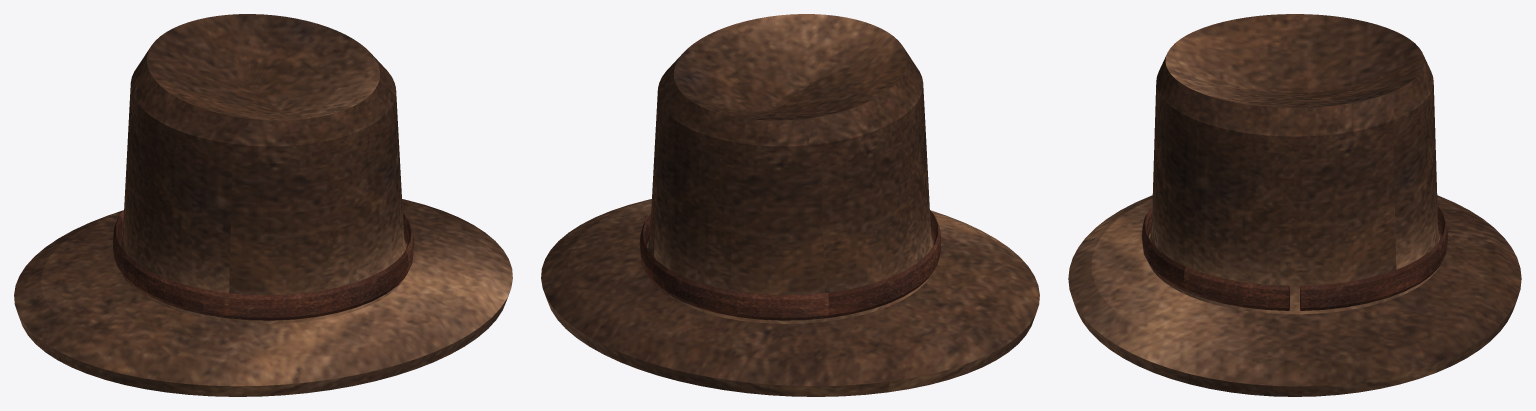
3 views of the same model, side by side, from view 1: azimuth 30°, elevation 25°; view 2: azimuth 150°, elevation 25°; view 3: azimuth 270°, elevation 25° (orthographic).
Visible parts, largest first — view 1: hollow_crown_and_rim, leather_band; view 2: hollow_crown_and_rim, leather_band; view 3: hollow_crown_and_rim, leather_band.
Boxes of the visible parts, box(x1,y1,x2,y2) form: hollow_crown_and_rim: box(14, 14, 512, 396); leather_band: box(113, 210, 414, 320); hollow_crown_and_rim: box(541, 14, 1039, 396); leather_band: box(639, 210, 940, 320); hollow_crown_and_rim: box(1068, 14, 1521, 396); leather_band: box(1141, 205, 1448, 310).
Bounding box in the file's own units: 108 × 54 × 96.22.
2 materials, 2 textured.
